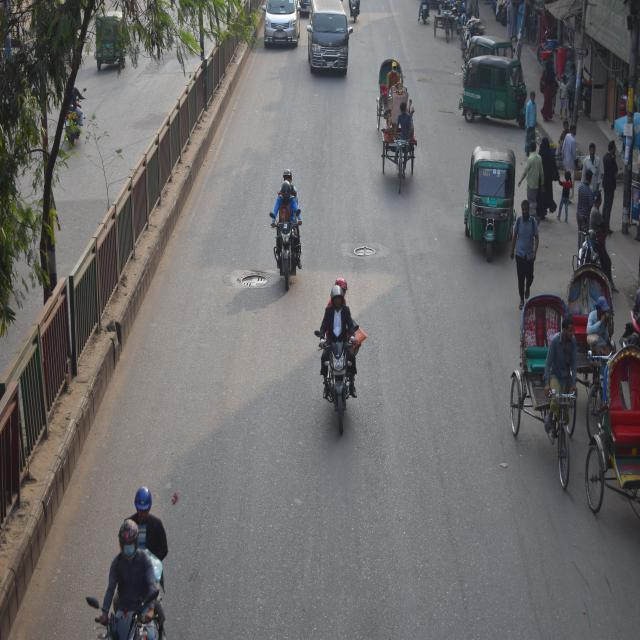car: (259, 0, 303, 59)
microbus: (305, 0, 353, 81)
motorbike: (91, 506, 177, 640), (307, 290, 365, 436), (259, 181, 309, 302)
